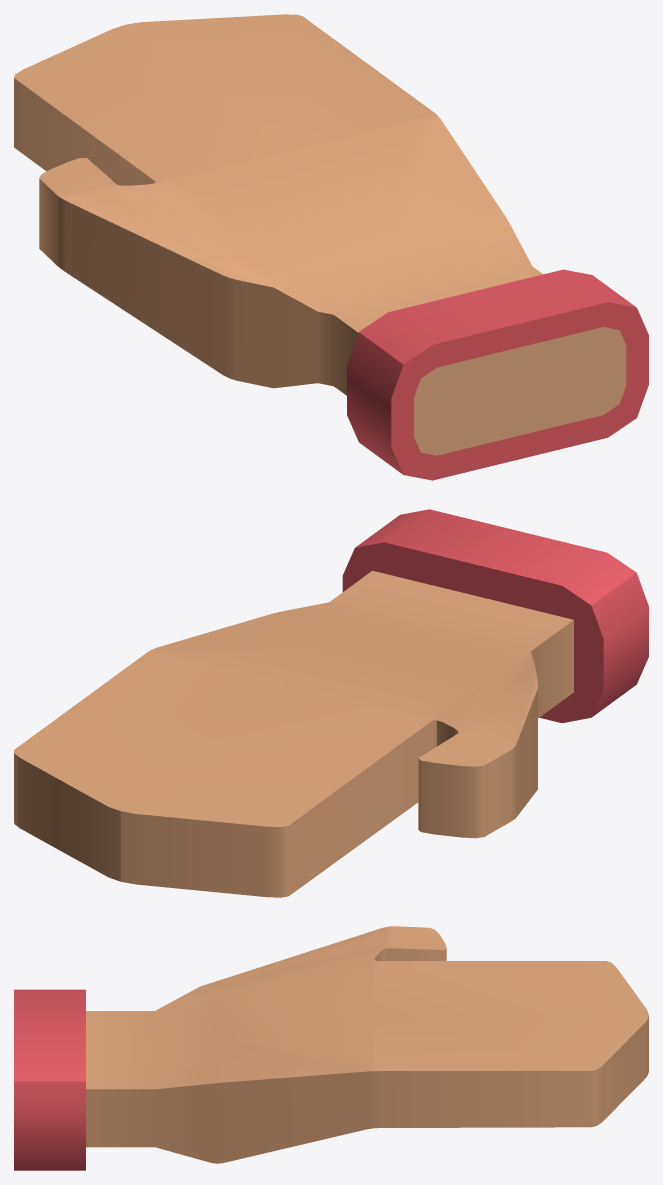
Rendered from Mano_j1_der.fbx.
3 views of the same model, one above another, from view 1: azimuth 30°, elevation 25°; view 2: azimuth 150°, elevation 25°; view 3: azimuth 270°, elevation 25° (orthographic). The views are drawn at different scales.
Visible parts, largest first — view 1: Cube.013; view 2: Cube.013; view 3: Cube.013.
Boxes of the visible parts, left/top/right/bottom form: Cube.013: left=14, top=14, right=648, bottom=480; Cube.013: left=14, top=509, right=648, bottom=897; Cube.013: left=14, top=926, right=648, bottom=1170.
Size of the model in its own units: 135 by 250 by 51.65.
